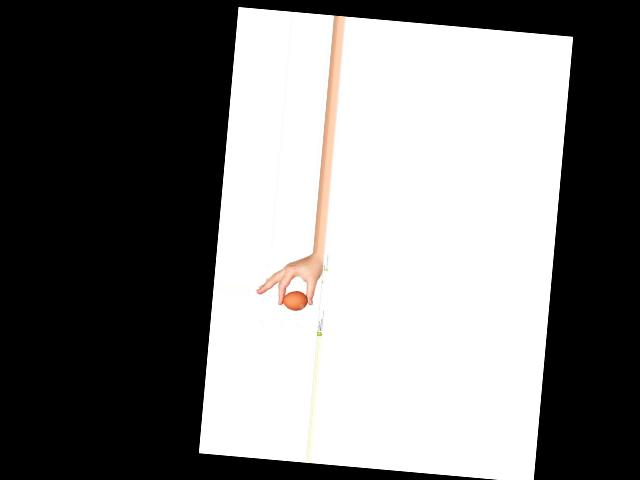egg: (282, 289, 309, 311)
